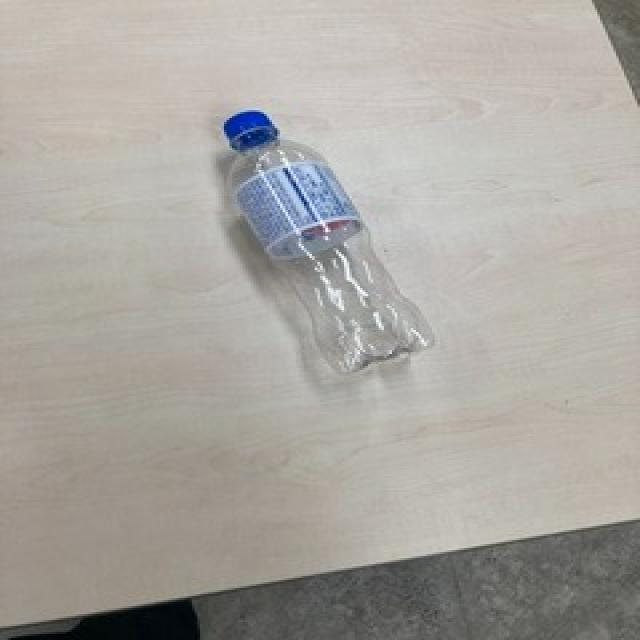good: (219, 101, 437, 381)
